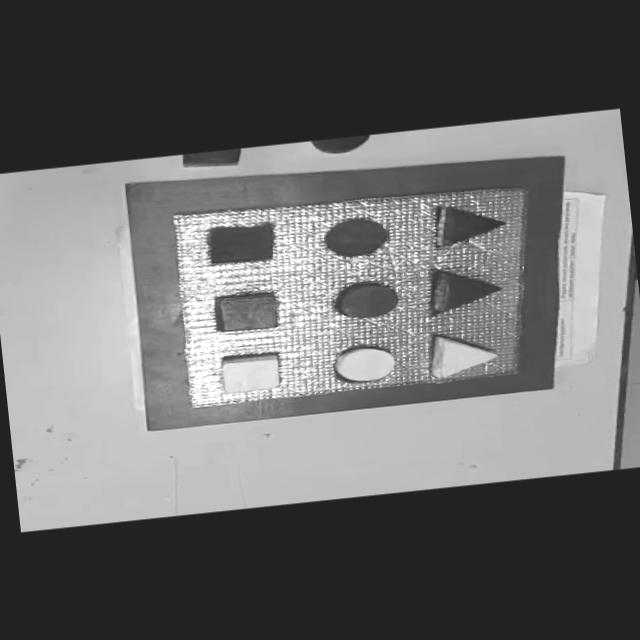bcircle: (311, 134, 371, 156)
bcube: (181, 148, 243, 170)
btriangle: (431, 200, 508, 249)
mtcircle: (320, 214, 392, 260)
mtcube: (204, 220, 279, 266)
rcircle: (334, 280, 400, 321)
rcube: (213, 290, 282, 334)
rtriangle: (423, 264, 505, 315)
wb: (167, 178, 545, 412)
ycircle: (332, 342, 399, 384)
ycube: (217, 350, 284, 395)
ytriangle: (425, 328, 500, 379)
